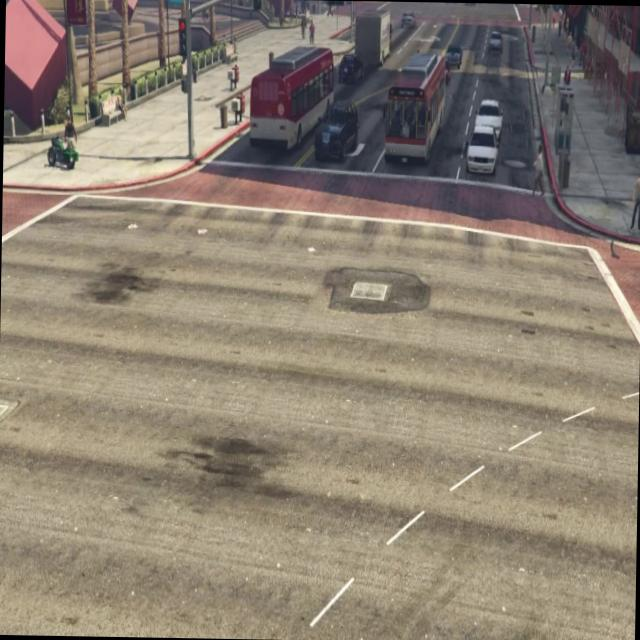Red-Signal: (170, 10, 192, 64), (246, 0, 266, 15)
